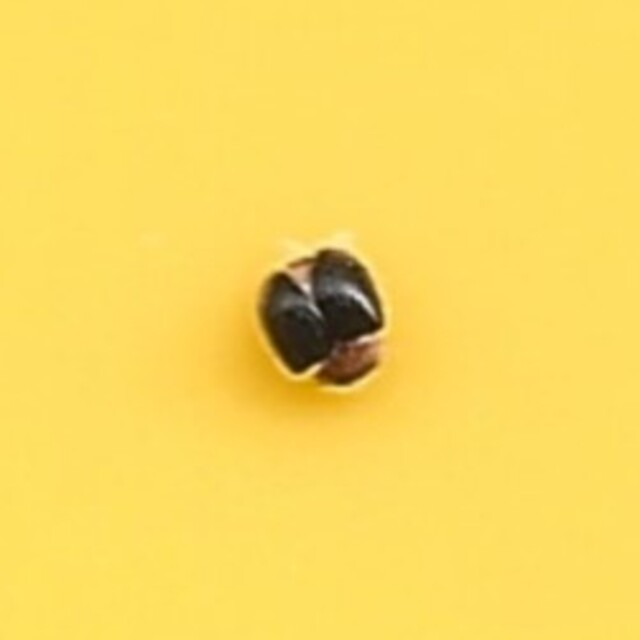Coleoptera: (255, 248, 385, 392)
